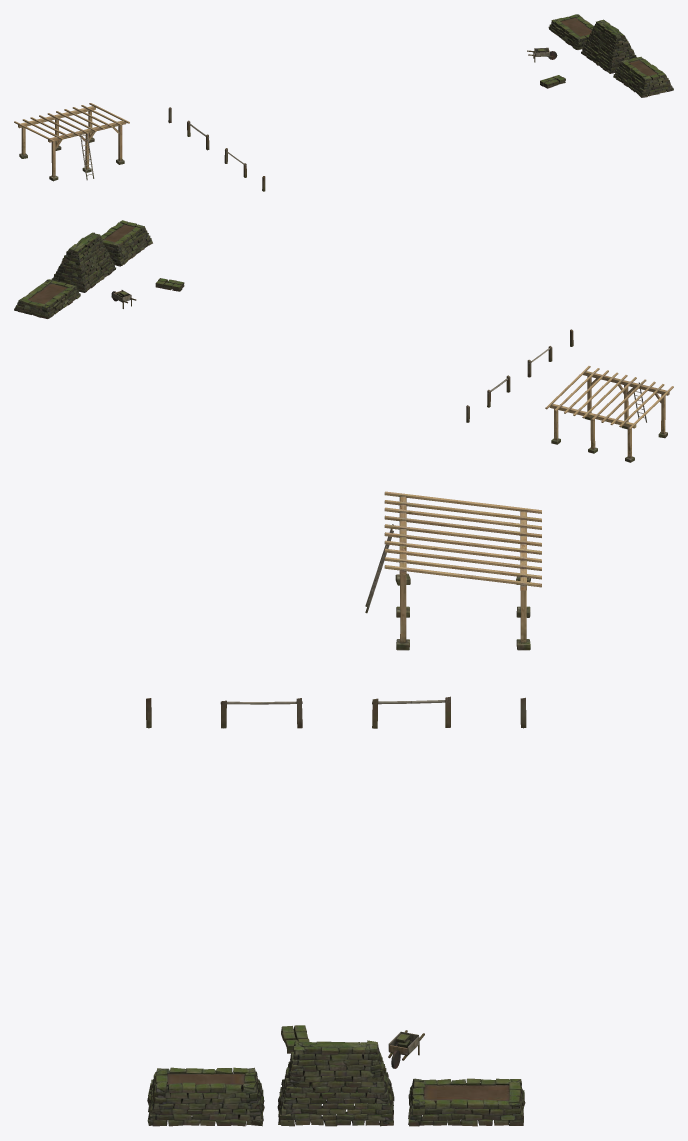
Rendered from archery_range_build2.glb.
3 views of the same model, one above another, from view 1: azimuth 30°, elevation 25°; view 2: azimuth 150°, elevation 25°; view 3: azimuth 270°, elevation 25° (orthographic). The views are drawn at different scales.
Parts seen in each view (by area): view 1: archery_range_build2_LOD0; view 2: archery_range_build2_LOD0; view 3: archery_range_build2_LOD0.
Part boxes in pixels (bbox=[...]): archery_range_build2_LOD0: bbox=[14, 14, 673, 191]; archery_range_build2_LOD0: bbox=[14, 220, 673, 462]; archery_range_build2_LOD0: bbox=[146, 491, 541, 1126].
Size of what is drawn, in the model's own units: 38.82 by 2.9 by 11.85.
Materials: 1 (1 with a texture image).
